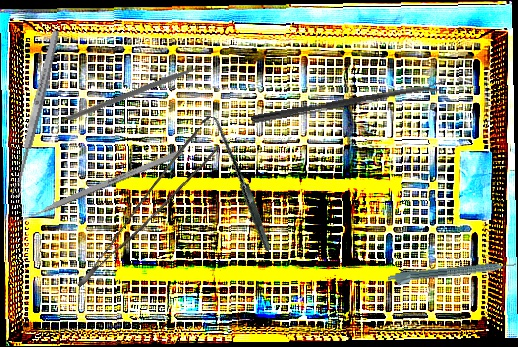Chopper: (65, 16, 218, 174)
Handpiece: (387, 260, 518, 288)
Hook Surgical: (169, 114, 304, 252)
Pusher: (8, 148, 184, 229)
Surgical Spoon: (9, 29, 62, 199), (250, 82, 443, 125)
Tissue Forceps: (53, 126, 228, 288)
